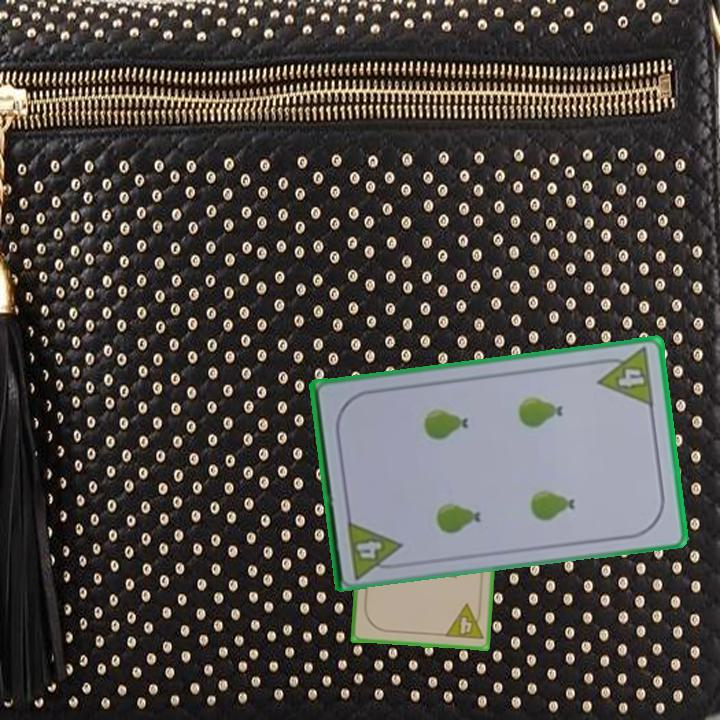4p: (592, 344, 657, 409), (343, 515, 406, 580), (441, 601, 486, 643)
